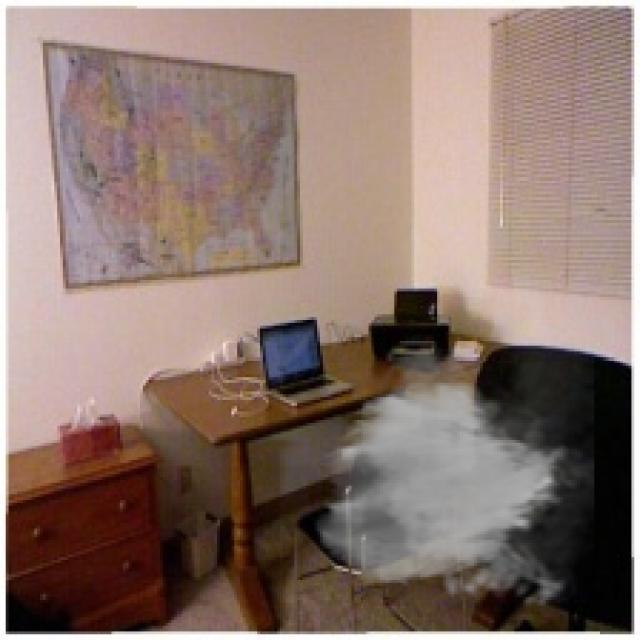smoke: (312, 343, 594, 614)
